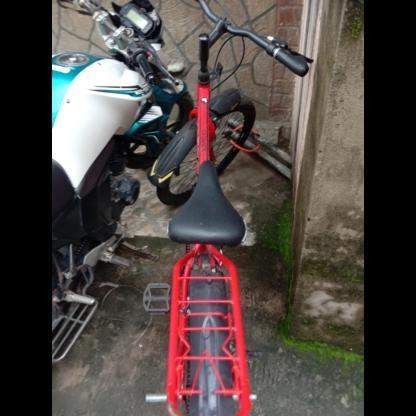Bicycle: (122, 0, 351, 416)
